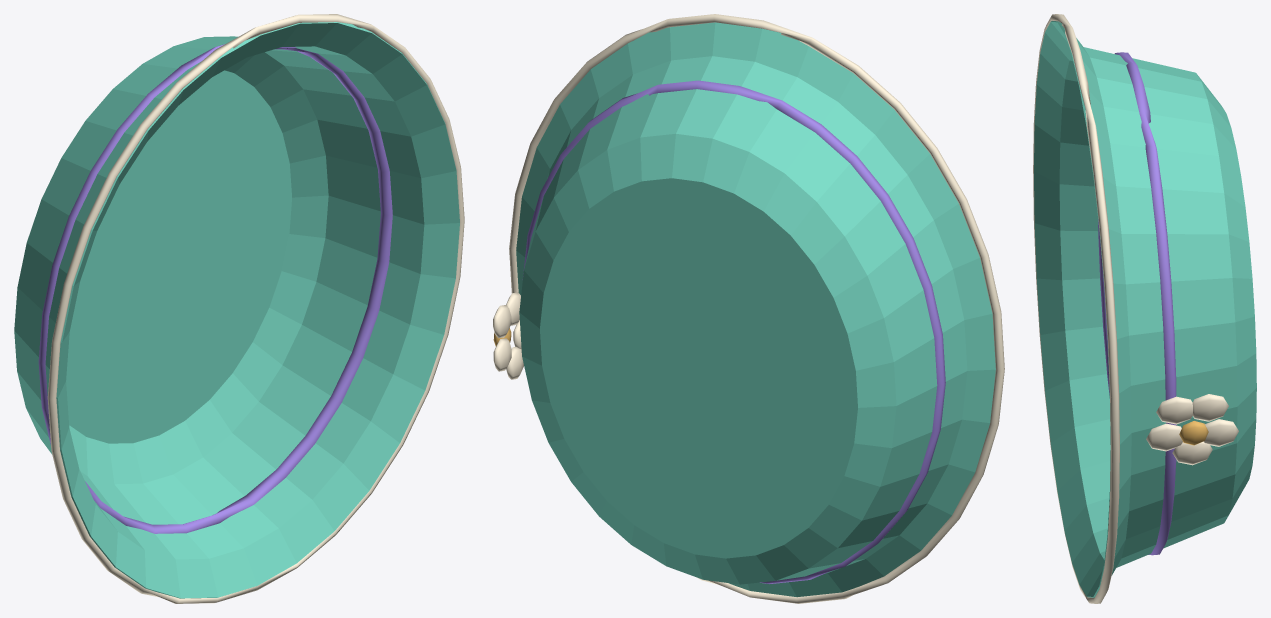
The model's file is daisy-bucket.glb.
3 views of the same model, side by side, from view 1: azimuth 30°, elevation 25°; view 2: azimuth 150°, elevation 25°; view 3: azimuth 270°, elevation 25° (orthographic).
Visible parts, largest first — view 1: SHOP_daisy-bucket_optimized; view 2: SHOP_daisy-bucket_optimized; view 3: SHOP_daisy-bucket_optimized.
Boxes of the visible parts, bbox=[...] form: SHOP_daisy-bucket_optimized: bbox=[14, 14, 464, 603]; SHOP_daisy-bucket_optimized: bbox=[493, 14, 1004, 603]; SHOP_daisy-bucket_optimized: bbox=[1033, 14, 1256, 603].
Bounding box in the file's own units: 0.277 × 0.3329 × 0.12.
